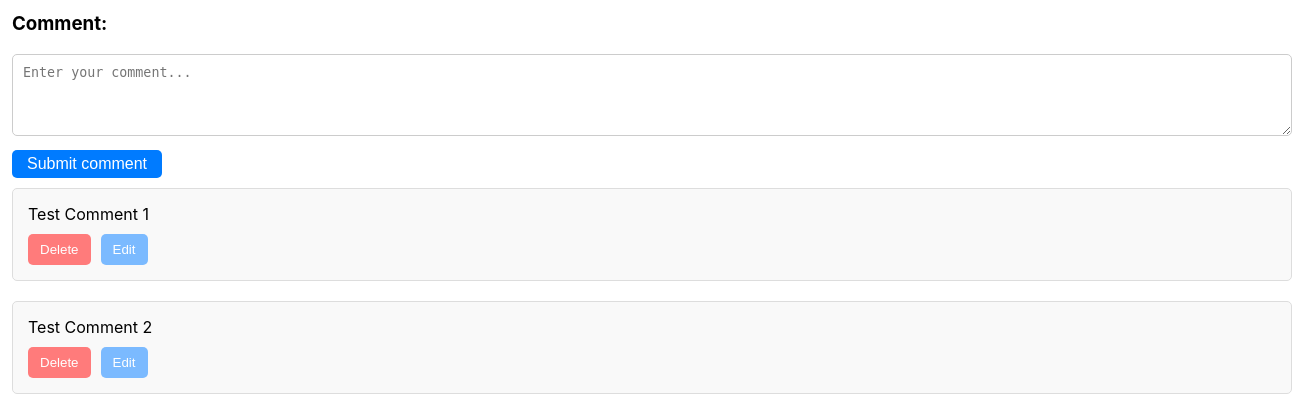
Test: CommentSection › should edit a comment
The width and height of the screenshot is (1304, 413).
Click the button "Edit" below "Test Comment 1" at (124, 249), box [100, 234, 148, 265]
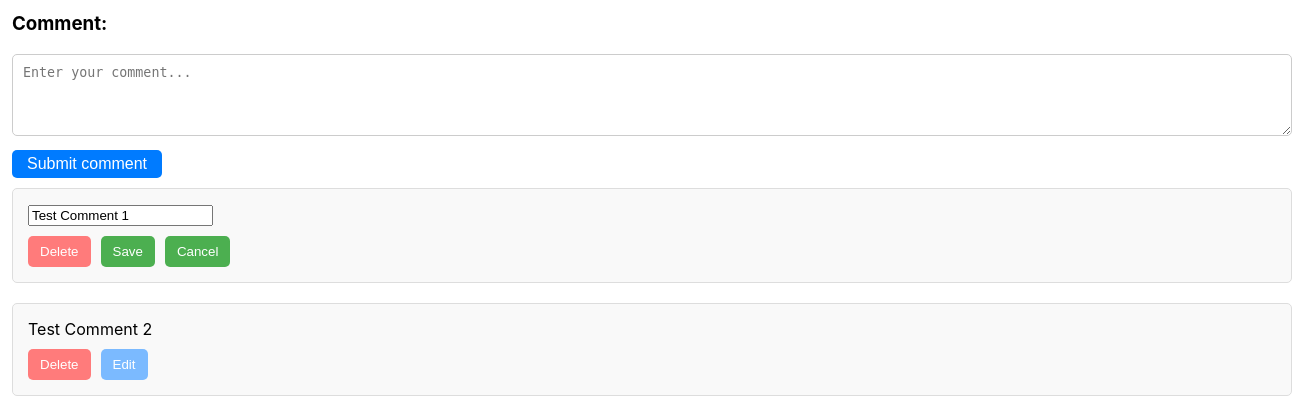
Replace the text in the field with "Edited comment" at (120, 215), box [28, 205, 213, 226]
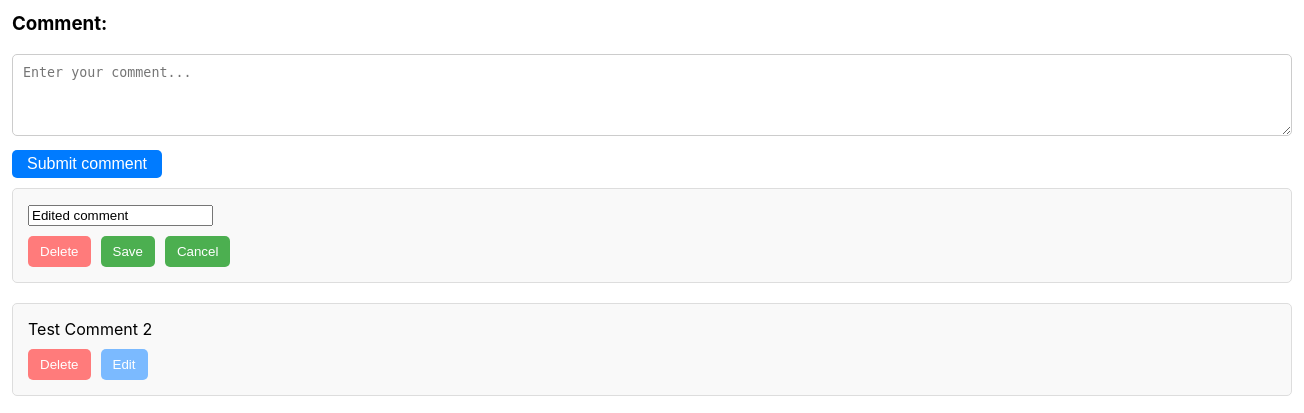
Click the button "Save" at (128, 251), box [100, 236, 155, 267]
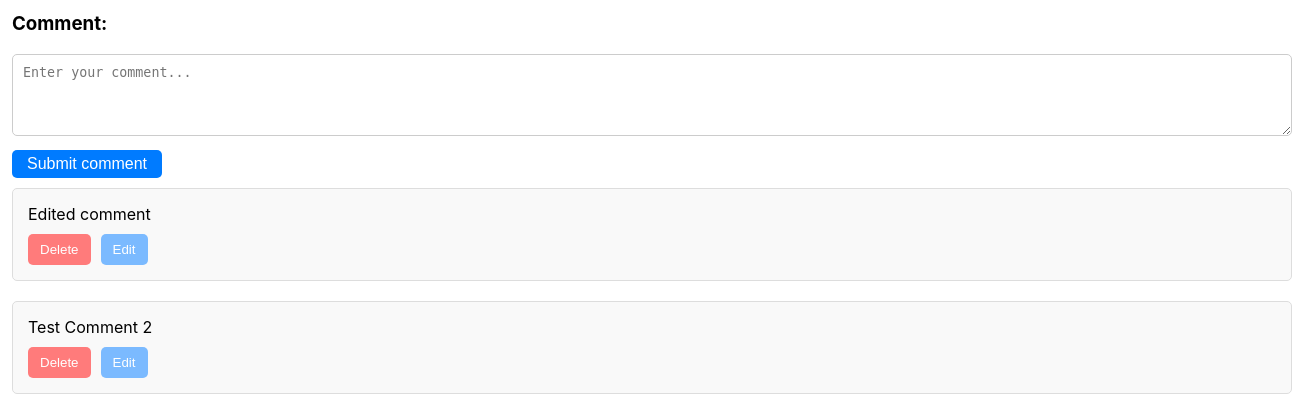
Expected: the text "Edited comment" is shown, [28, 204, 151, 224]
